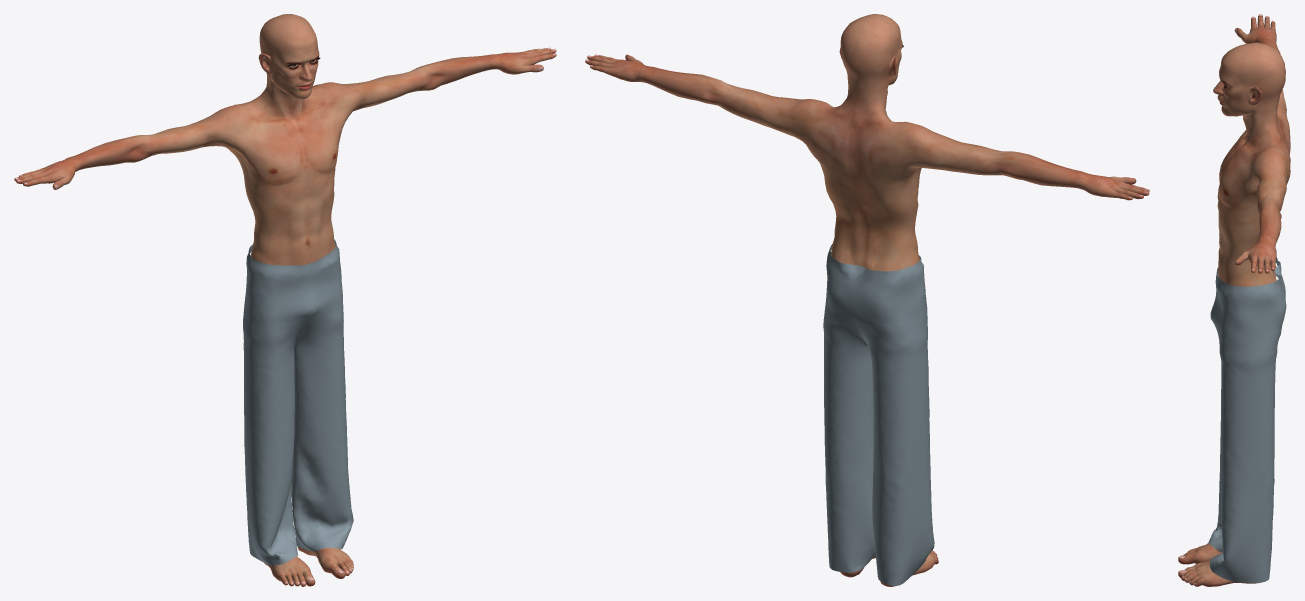
3 views of the same model, side by side, from view 1: azimuth 30°, elevation 25°; view 2: azimuth 150°, elevation 25°; view 3: azimuth 270°, elevation 25° (orthographic). The views are drawn at different scales.
Parts seen in each view (by area): view 1: CC_Base_Body, Pattern2D_8668, Pattern2D_8669, Pattern2D_8670, Pattern2D_8671; view 2: CC_Base_Body, Pattern2D_8671, Pattern2D_8670, Pattern2D_8668; view 3: CC_Base_Body, Pattern2D_8669, Pattern2D_8670, Pattern2D_8668.
Boxes of the visible parts, left/top/right/bottom form: CC_Base_Body: left=14, top=14, right=556, bottom=586; Pattern2D_8668: left=244, top=257, right=311, bottom=565; Pattern2D_8669: left=294, top=239, right=353, bottom=551; Pattern2D_8670: left=291, top=346, right=309, bottom=550; Pattern2D_8671: left=243, top=244, right=295, bottom=557; CC_Base_Body: left=585, top=14, right=1149, bottom=586; Pattern2D_8671: left=854, top=265, right=915, bottom=586; Pattern2D_8670: left=823, top=245, right=875, bottom=572; Pattern2D_8668: left=907, top=255, right=934, bottom=579; CC_Base_Body: left=1178, top=14, right=1290, bottom=586; Pattern2D_8669: left=1209, top=274, right=1256, bottom=583; Pattern2D_8670: left=1251, top=271, right=1286, bottom=583; Pattern2D_8668: left=1208, top=267, right=1222, bottom=552.
Bounding box in the file's own units: 1.84 × 1.76 × 0.34.
18 materials, 13 textured.
